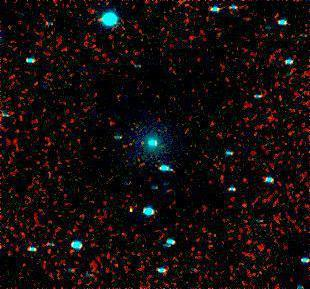star: (113, 194, 143, 224)
